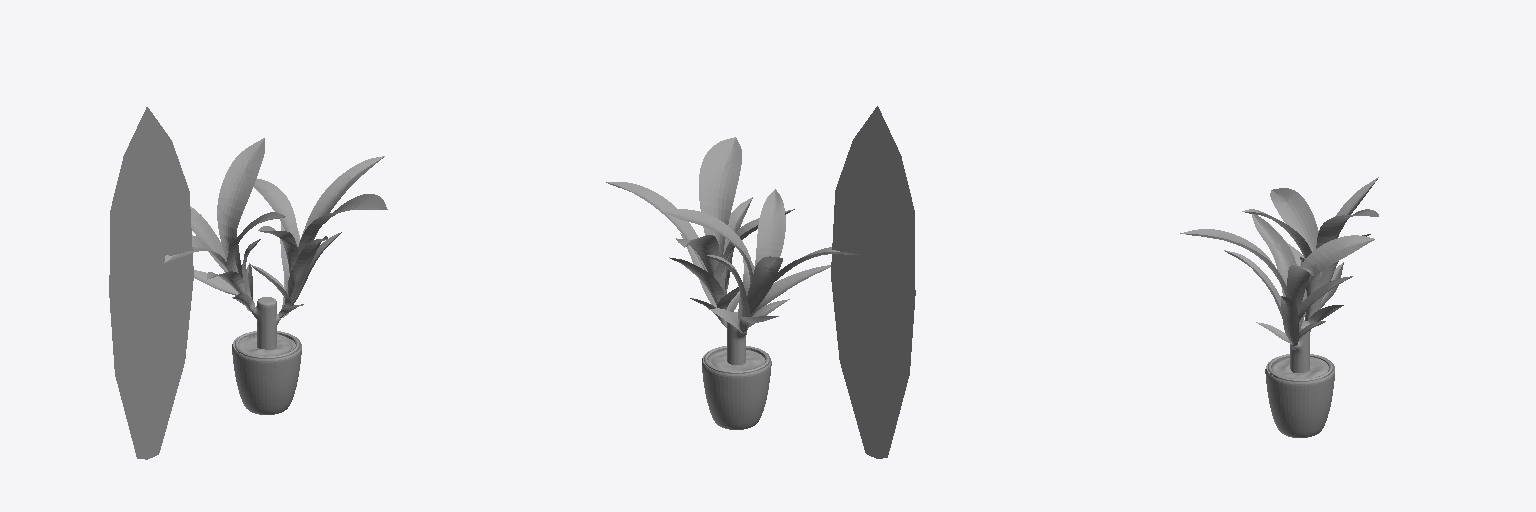
Rendered from indoorplant_02.obj.
3 renders of one model, left to right at view 1: azimuth 30°, elevation 25°; view 2: azimuth 150°, elevation 25°; view 3: azimuth 270°, elevation 25°, orthographic.
Parts seen in each view (by area): view 1: Plane_Plane.001, indoorplant_02; view 2: Plane_Plane.001, indoorplant_02; view 3: indoorplant_02.
Part boxes in pixels (left/top/right/bottom): Plane_Plane.001: left=109, top=107, right=193, bottom=459; indoorplant_02: left=164, top=138, right=387, bottom=414; Plane_Plane.001: left=831, top=106, right=915, bottom=458; indoorplant_02: left=606, top=137, right=858, bottom=429; indoorplant_02: left=1180, top=177, right=1378, bottom=437.
Bounding box in the file's own units: 8.26 × 9.49 × 4.86.